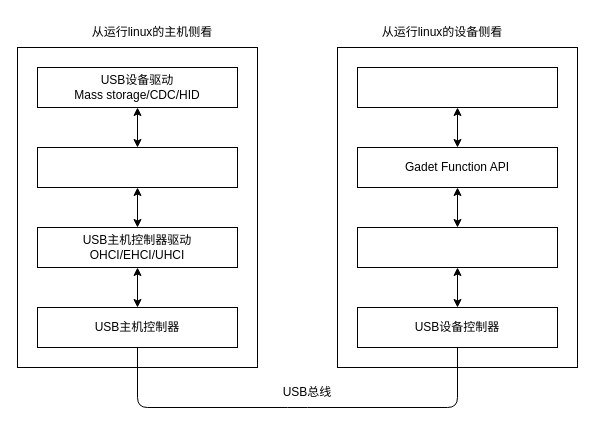
The diagram is 595 pixels wide and 426 high, and some of its shapes have lost their labels. The box of each missing label's shape, as (x1, y1, x2, y2) in pixels:
Gadget Function驱动: (356, 66, 558, 108)
UDC驱动: (356, 226, 558, 268)
USB核心: (36, 146, 238, 188)
